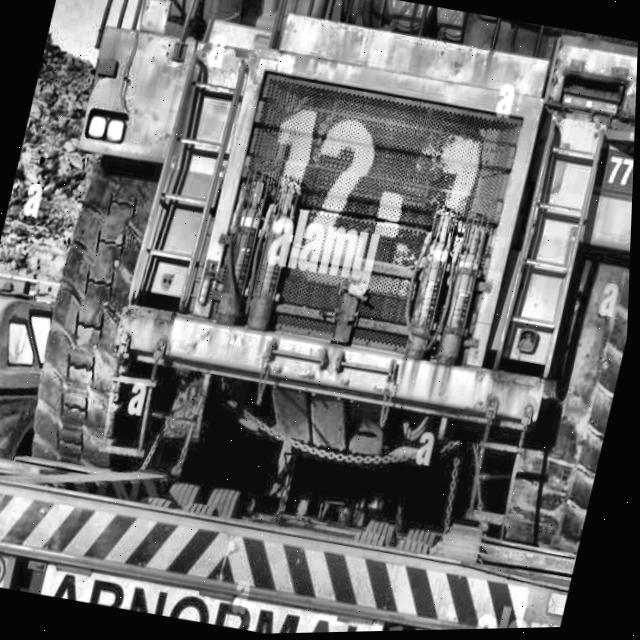dump_truck: (0, 0, 640, 590)
light_vehicle: (0, 223, 72, 549)
